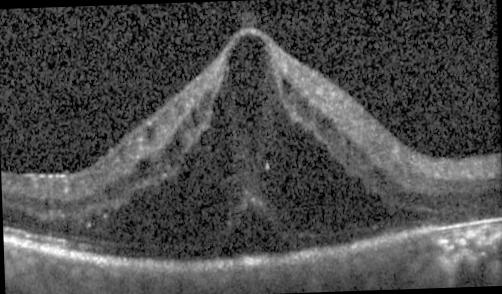intraretinal_cyst: (79, 91, 237, 245), (259, 104, 411, 233), (228, 33, 268, 155), (5, 205, 69, 232), (164, 132, 184, 162), (126, 160, 152, 183), (281, 78, 291, 94), (190, 111, 200, 126), (146, 126, 151, 138)
neuroepithelium_detachment: (219, 198, 294, 256)
